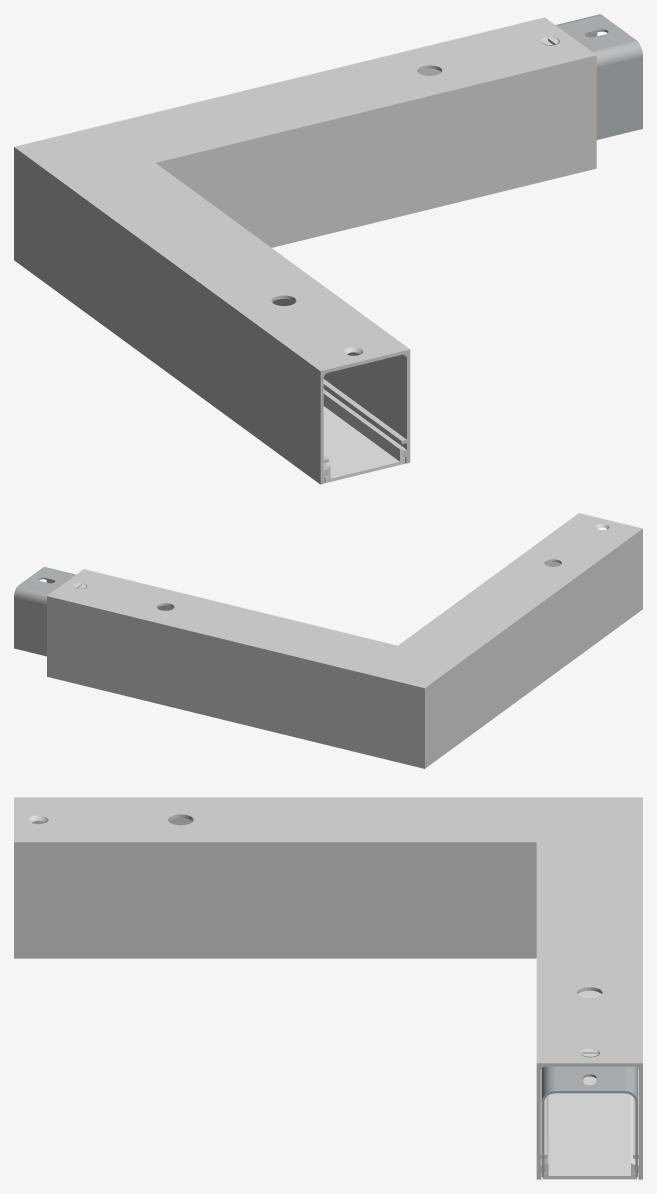
File: PerfilNewFit40Plafon-curva-direita-esquerda.glb
The picture shows the model from 3 angles, top to bottom: view 1: azimuth 30°, elevation 25°; view 2: azimuth 150°, elevation 25°; view 3: azimuth 270°, elevation 25°; orthographic projection. The views are drawn at different scales.
Visible parts, largest first — view 1: 3DGeom-1, 3DGeom-2, 3DGeom-3, 3DGeom-9; view 2: 3DGeom-1, 3DGeom-2, 3DGeom-3; view 3: 3DGeom-2, 3DGeom-1, 3DGeom-10, 3DGeom-3.
Part boxes in pixels (<box>): 3DGeom-1: <box>14,17,596,247</box>; 3DGeom-2: <box>14,147,410,484</box>; 3DGeom-3: <box>556,14,642,139</box>; 3DGeom-9: <box>323,392,405,482</box>; 3DGeom-1: <box>47,569,424,768</box>; 3DGeom-2: <box>398,513,642,768</box>; 3DGeom-3: <box>14,567,75,656</box>; 3DGeom-2: <box>14,797,642,958</box>; 3DGeom-1: <box>536,797,642,1179</box>; 3DGeom-10: <box>542,990,636,1179</box>; 3DGeom-3: <box>541,1066,637,1177</box>.
Size of the model in its own units: 0.2675 by 0.05 by 0.245.
2 materials, 1 textured.
